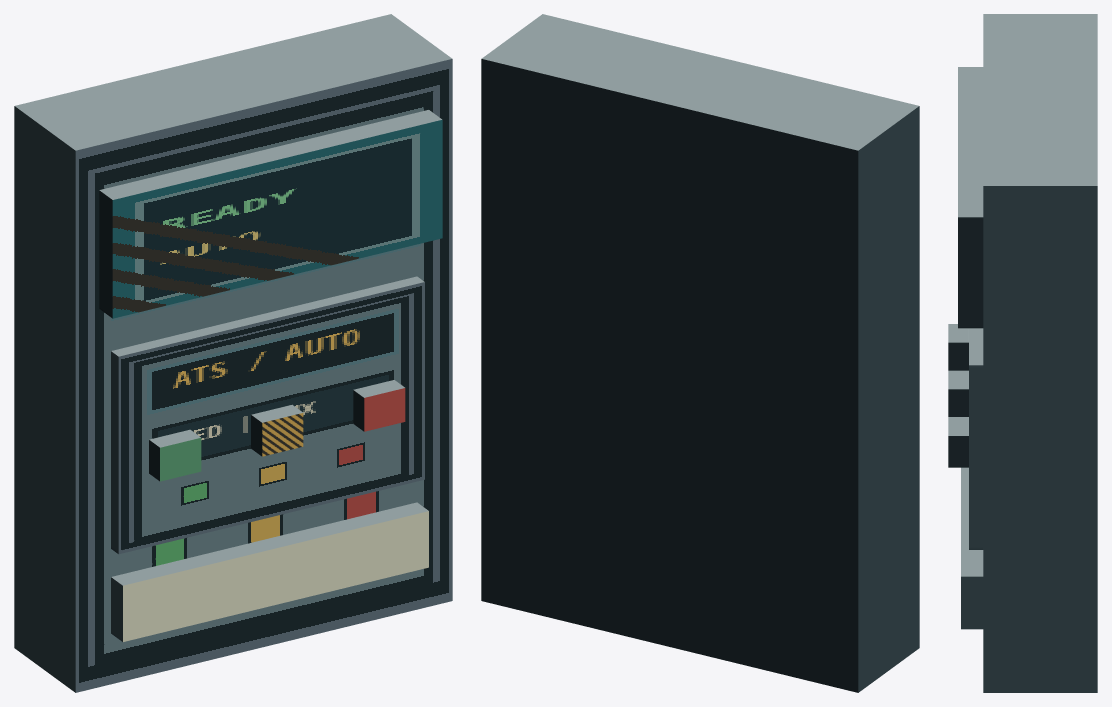
The model's file is tablero_transferencia_automatica.glb.
3 views of the same model, side by side, from view 1: azimuth 30°, elevation 25°; view 2: azimuth 150°, elevation 25°; view 3: azimuth 270°, elevation 25° (orthographic). The views are drawn at different scales.
Visible parts, largest first — view 1: GENERADORES_PROPS; view 2: GENERADORES_PROPS; view 3: GENERADORES_PROPS.
Part boxes in pixels (x1,y1,x2,y2): GENERADORES_PROPS: [14, 14, 452, 692]; GENERADORES_PROPS: [481, 14, 919, 692]; GENERADORES_PROPS: [948, 14, 1097, 692].
Size of the model in its own units: 0.5852 by 0.8047 by 0.2149.
Materials: 1 (1 with a texture image).
